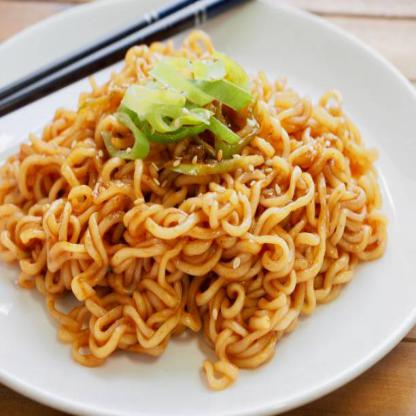Noodles: (0, 29, 388, 390)
